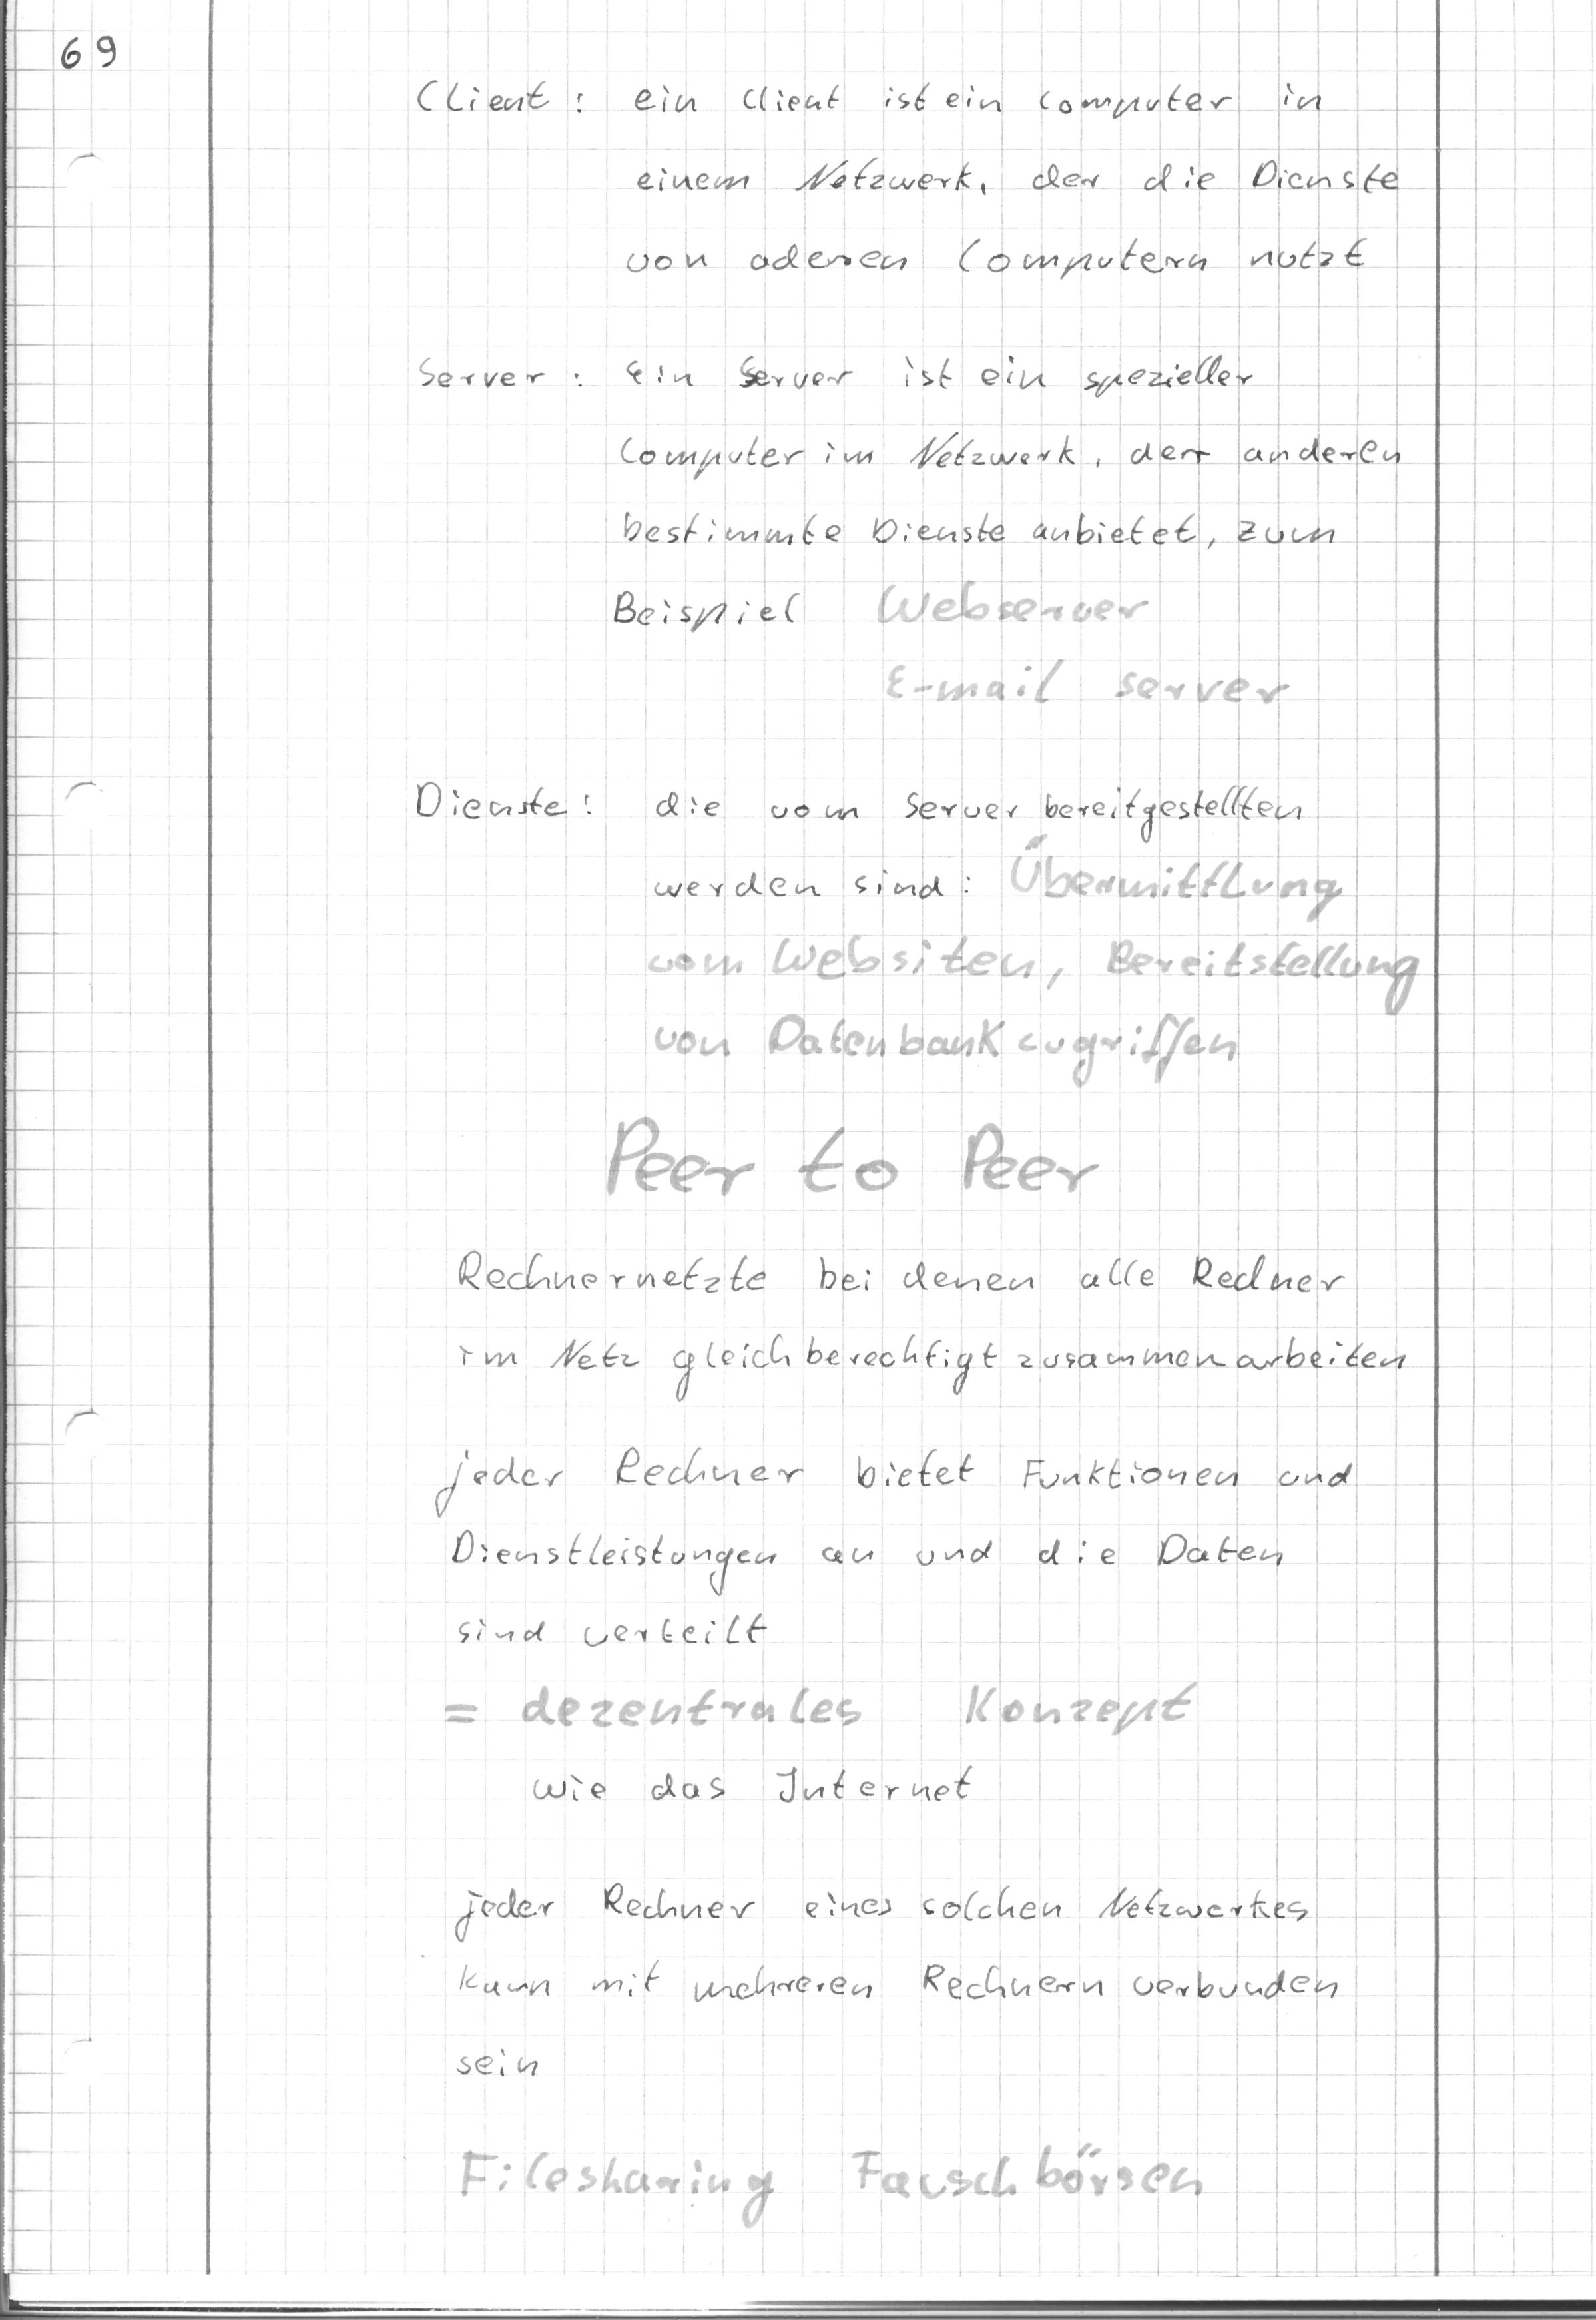word: (404, 333, 1404, 640), (409, 66, 1411, 290), (428, 1436, 1364, 1655), (441, 1873, 1350, 2094), (447, 1242, 1418, 1407), (405, 768, 1313, 919), (517, 1740, 1006, 1827)
